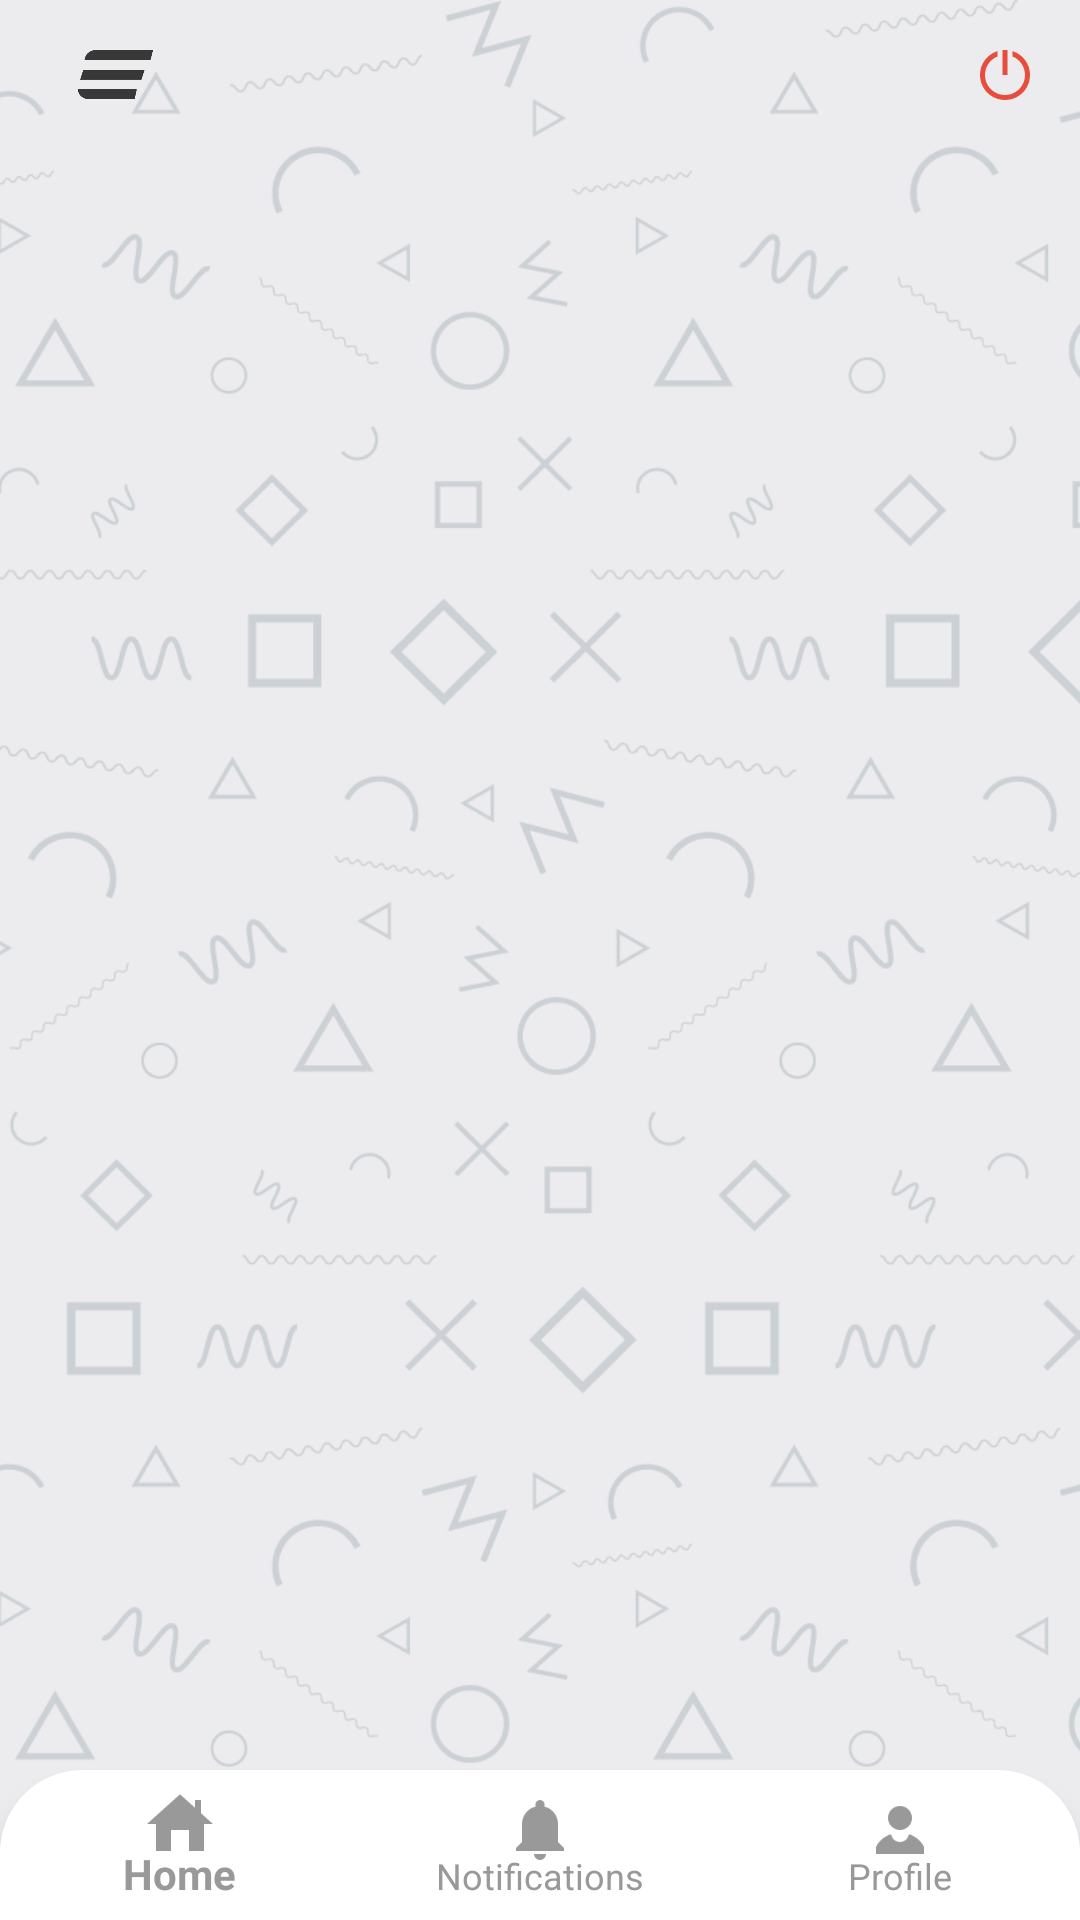

Icons on this 1080px x 1920px Android screen, each with its box as {"left": x1, "top": y1, "right": x2, "bottom": y2}:
nav: {"left": 78, "top": 50, "right": 153, "bottom": 99}
power: {"left": 980, "top": 50, "right": 1030, "bottom": 100}
